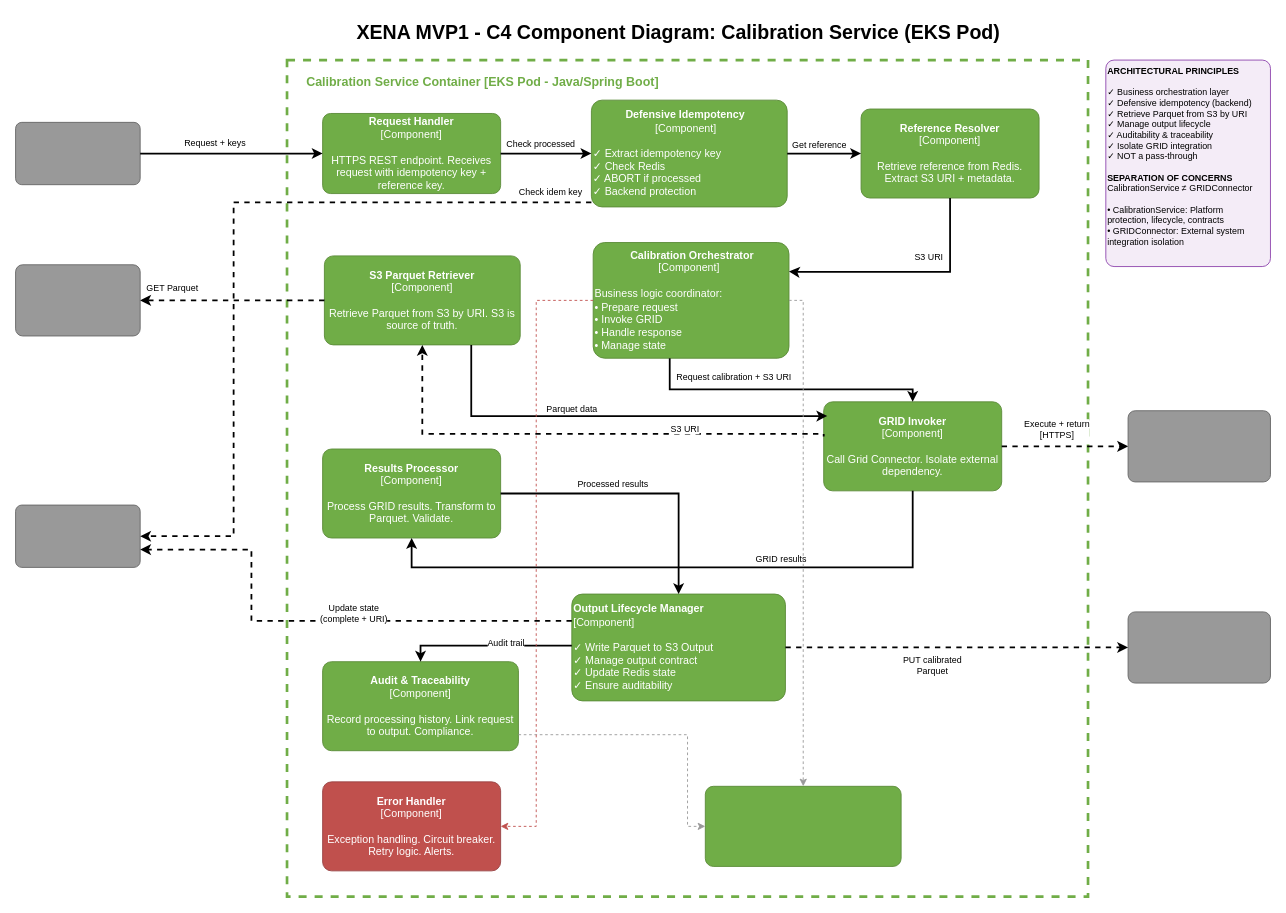
Some shapes in this 1286 by 913 pixel diagram are drawn without their labels. The centre of each missing label's shape, as x and y in pixels:
Grid Connector [External Container] EKS Pod: the point at 1198,446
Observability Agent [Component] Logs, metrics, traces. Link to Lambda keys.: the point at 802,825
S3 Input Bucket [External Container] Parquet files: the point at 77,300
S3 Output Bucket [External Container] Calibrated Parquet: the point at 1198,647
SCIB Gateway [External Container]: the point at 77,153
XENA Cache [External Container] Redis: the point at 77,535
